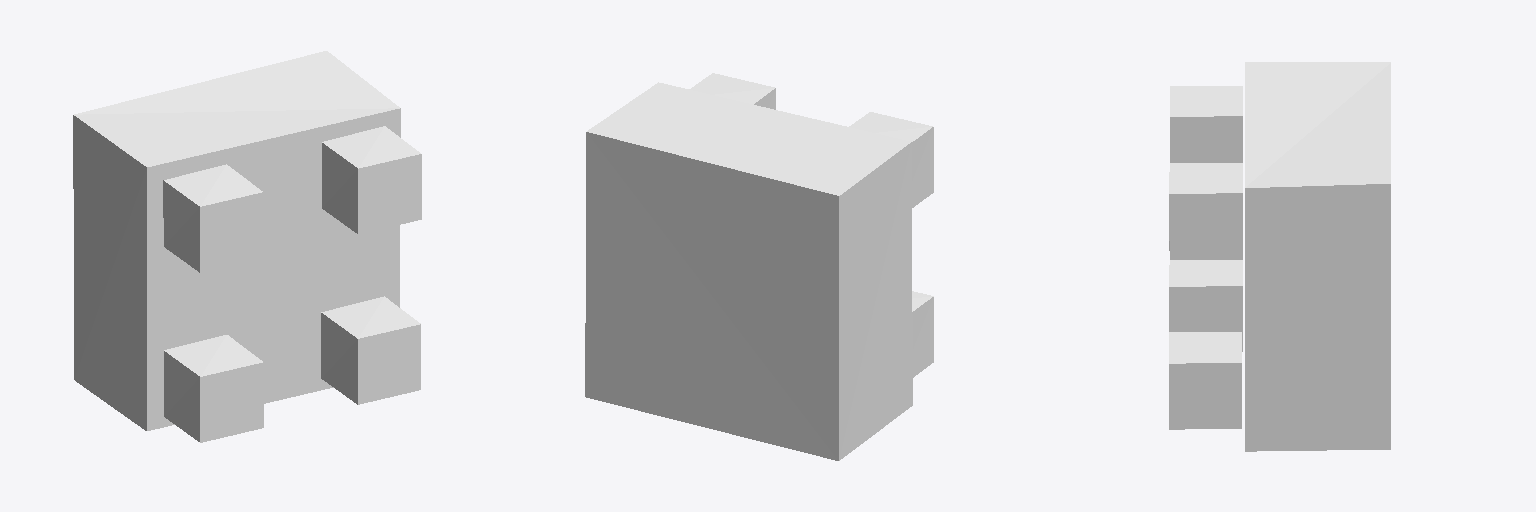
Rendered from wall.obj.
3 renders of one model, left to right at view 1: azimuth 30°, elevation 25°; view 2: azimuth 150°, elevation 25°; view 3: azimuth 270°, elevation 25°, orthographic.
Parts seen in each view (by area): view 1: duza, Duplicate05, Duplicate04, mala, Duplicate03; view 2: duza, Duplicate03, mala, Duplicate04; view 3: duza, mala, Duplicate05, Duplicate03, Duplicate04.
Part boxes in pixels (bbox=[...]): duza: bbox=[73, 51, 400, 430]; Duplicate05: bbox=[321, 296, 420, 404]; Duplicate04: bbox=[164, 335, 263, 442]; mala: bbox=[322, 126, 421, 234]; Duplicate03: bbox=[163, 164, 263, 272]; duza: bbox=[585, 82, 912, 460]; Duplicate03: bbox=[849, 112, 933, 207]; mala: bbox=[689, 73, 775, 109]; Duplicate04: bbox=[912, 291, 933, 377]; duza: bbox=[1245, 62, 1390, 451]; mala: bbox=[1169, 163, 1242, 259]; Duplicate05: bbox=[1169, 332, 1241, 429]; Duplicate03: bbox=[1170, 86, 1242, 162]; Duplicate04: bbox=[1169, 260, 1242, 351].
Bounding box in the file's own units: 0.9797 × 0.987 × 0.7432.